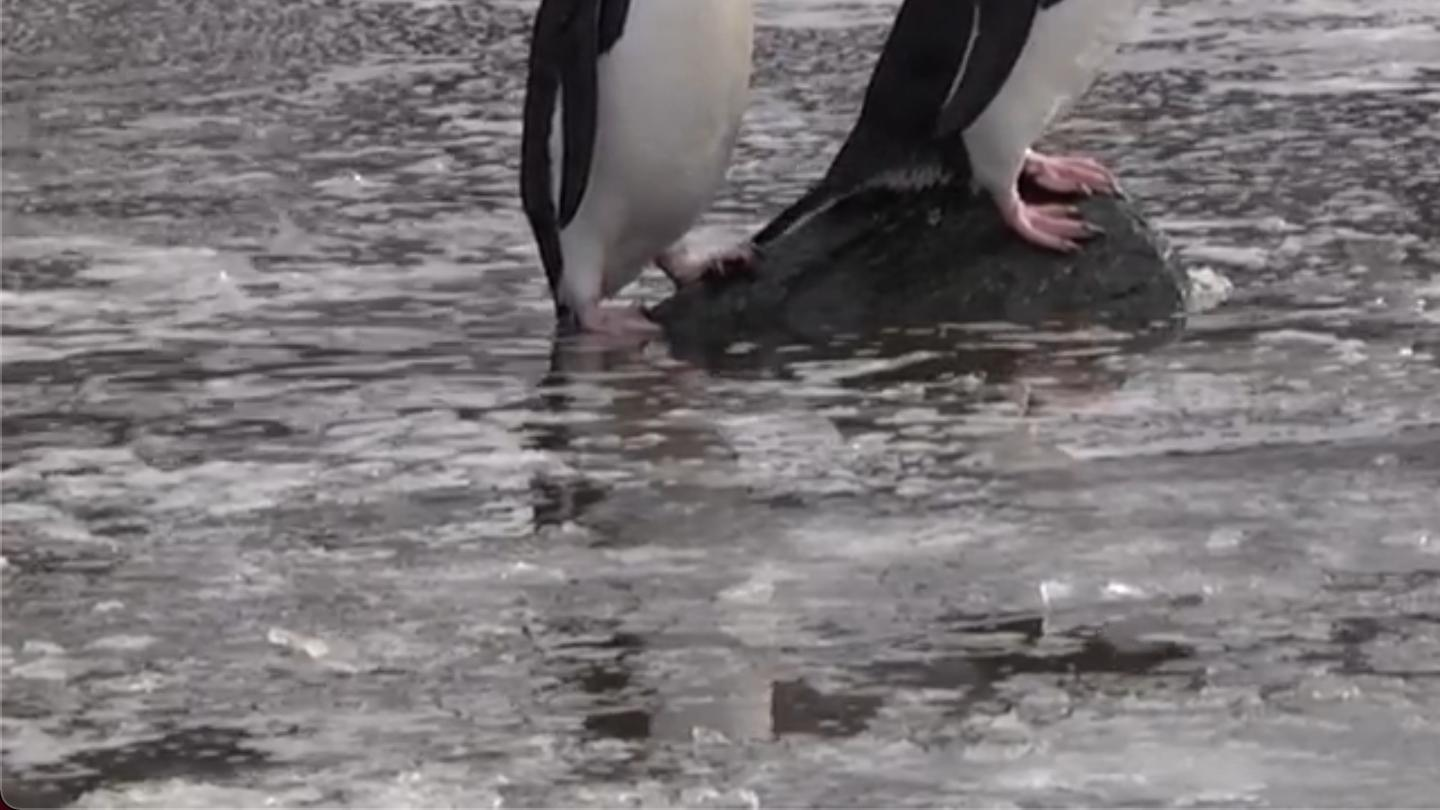Chinstrap Penguin: (871, 0, 1377, 261), (490, 0, 841, 363)
